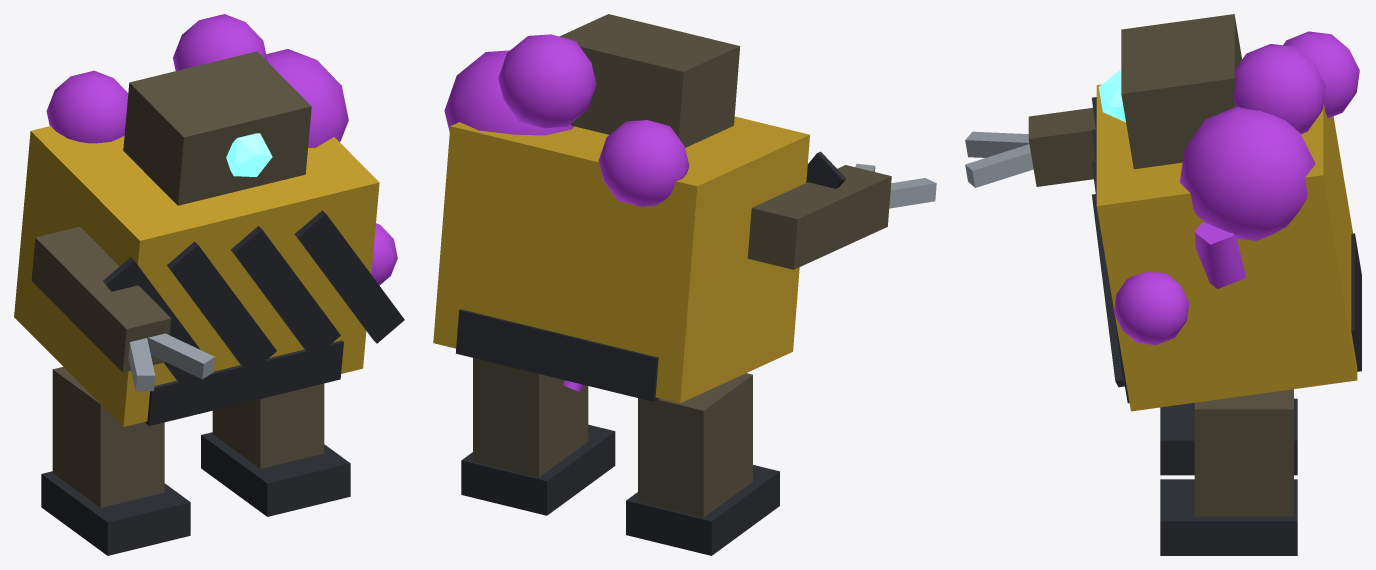
The model's file is en_bot.glb.
3 views of the same model, side by side, from view 1: azimuth 30°, elevation 25°; view 2: azimuth 150°, elevation 25°; view 3: azimuth 270°, elevation 25° (orthographic). The views are drawn at different scales.
Parts seen in each view (by area): view 1: torso, legR, legL, armR, eye; view 2: torso, legR, legL, armR; view 3: torso, legL, armR, legR, tentacle0, eye.
Boxes of the visible parts, <box> form: torso: <box>14,14,404,426</box>; legR: <box>41,366,190,555</box>; legL: <box>201,383,350,516</box>; armR: <box>31,226,214,391</box>; eye: <box>226,133,272,176</box>; torso: <box>433,14,845,403</box>; legR: <box>626,373,779,555</box>; legL: <box>461,358,615,515</box>; armR: <box>747,163,936,269</box>; torso: <box>1091,14,1361,411</box>; legL: <box>1160,389,1297,555</box>; armR: <box>965,107,1095,187</box>; legR: <box>1160,398,1297,475</box>; tentacle0: <box>1194,222,1246,288</box>; eye: <box>1098,70,1125,122</box>.
Bounding box in the file's own units: 1.07 × 1.36 × 1.04.
